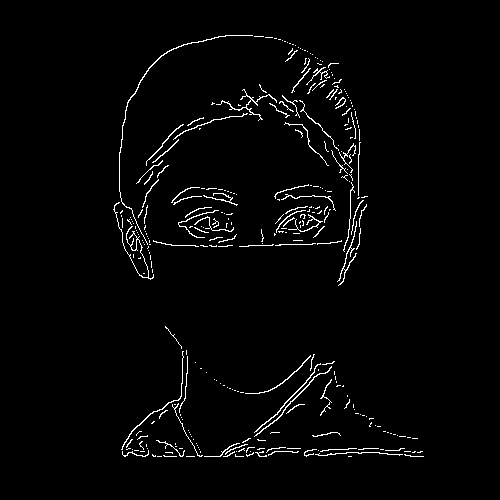mask: (133, 237, 348, 398)
